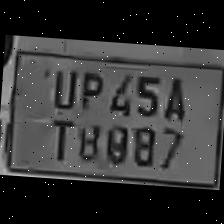4: (102, 64, 135, 118)
5: (130, 67, 162, 118)
7: (154, 122, 184, 170)
8: (72, 118, 102, 164), (100, 120, 130, 166), (127, 121, 156, 167)
A: (159, 68, 190, 122)
P: (75, 63, 104, 112)
T: (43, 114, 75, 162)
U: (46, 61, 78, 112)
